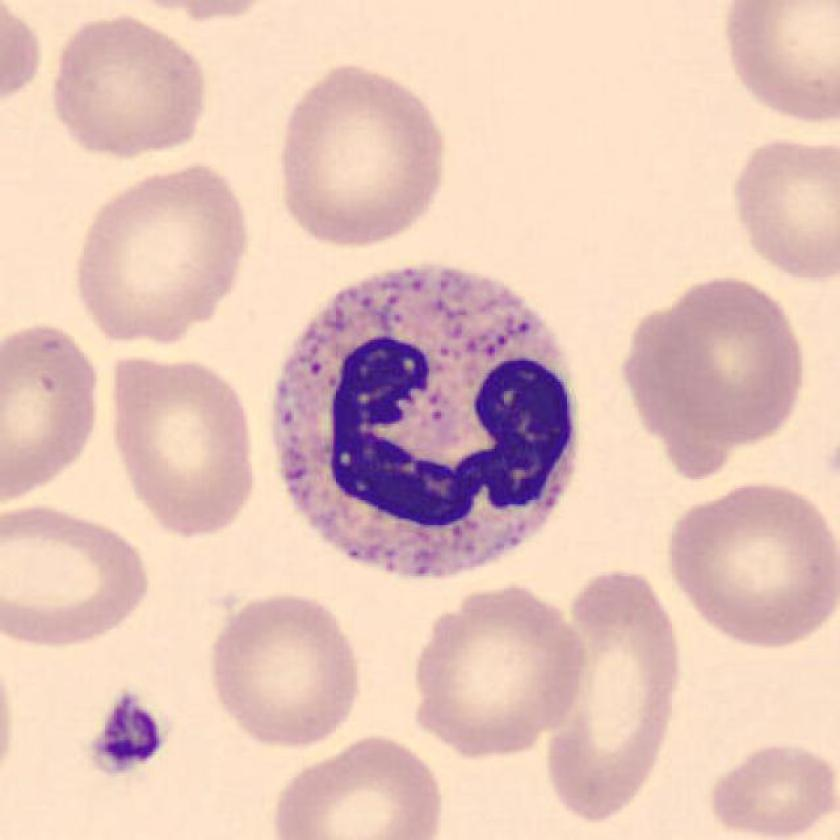neutrophil: (273, 265, 576, 575)
